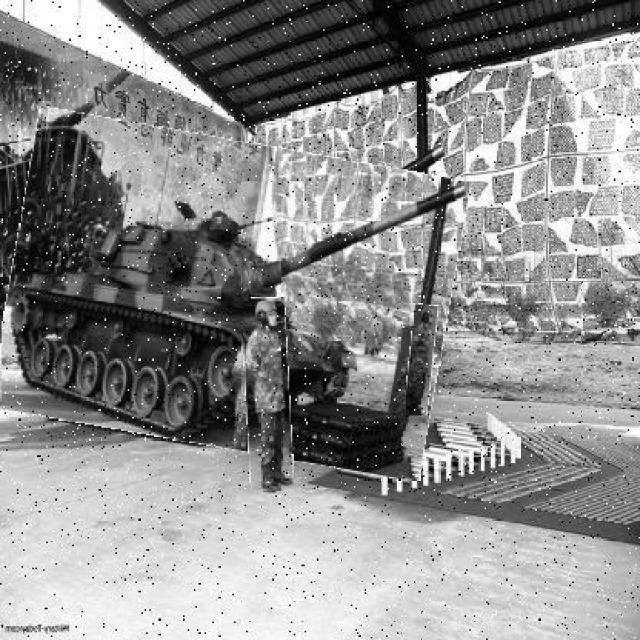Person: (244, 300, 293, 494), (408, 306, 437, 418)
Tank: (3, 124, 461, 466)
